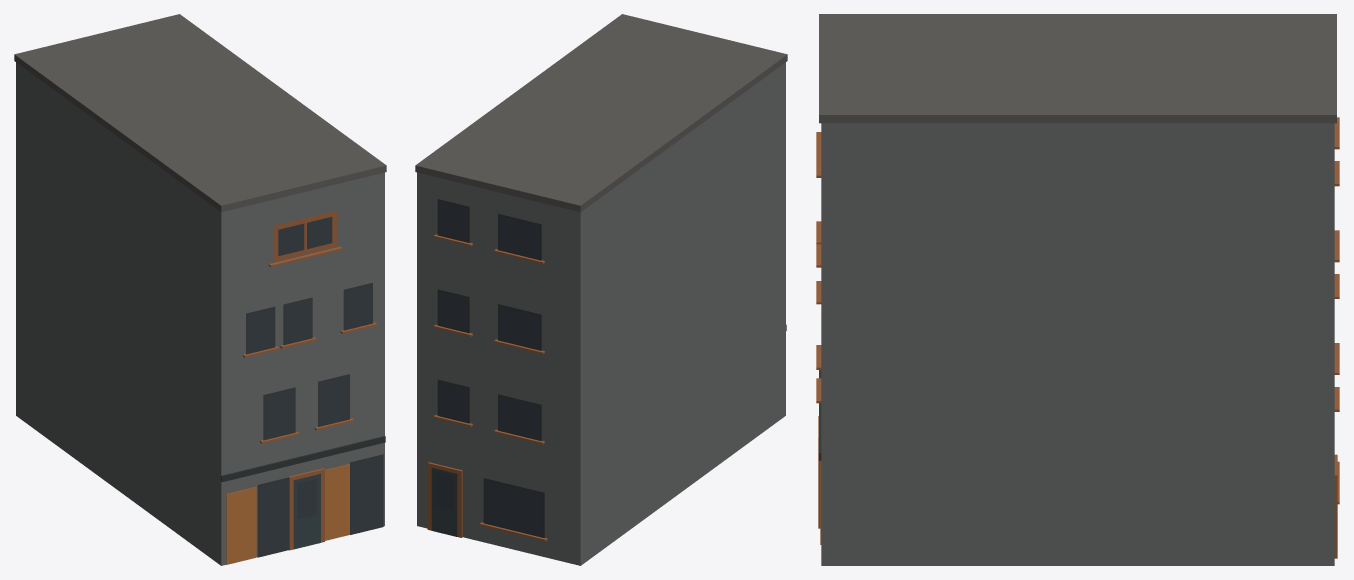
Rendered from nw-aw-vattern__grey__4__flat__long__solid.glb.
3 views of the same model, side by side, from view 1: azimuth 30°, elevation 25°; view 2: azimuth 150°, elevation 25°; view 3: azimuth 270°, elevation 25° (orthographic). The views are drawn at different scales.
Parts seen in each view (by area): view 1: nw-aw-vattern__grey__4__flat__long__solid; view 2: nw-aw-vattern__grey__4__flat__long__solid; view 3: nw-aw-vattern__grey__4__flat__long__solid.
Boxes of the visible parts, x1,y1,x2,y2 form: nw-aw-vattern__grey__4__flat__long__solid: (14, 14, 386, 565); nw-aw-vattern__grey__4__flat__long__solid: (415, 14, 787, 565); nw-aw-vattern__grey__4__flat__long__solid: (816, 14, 1339, 565).
Bounding box in the file's own units: 5.75 × 12 × 12.61.
